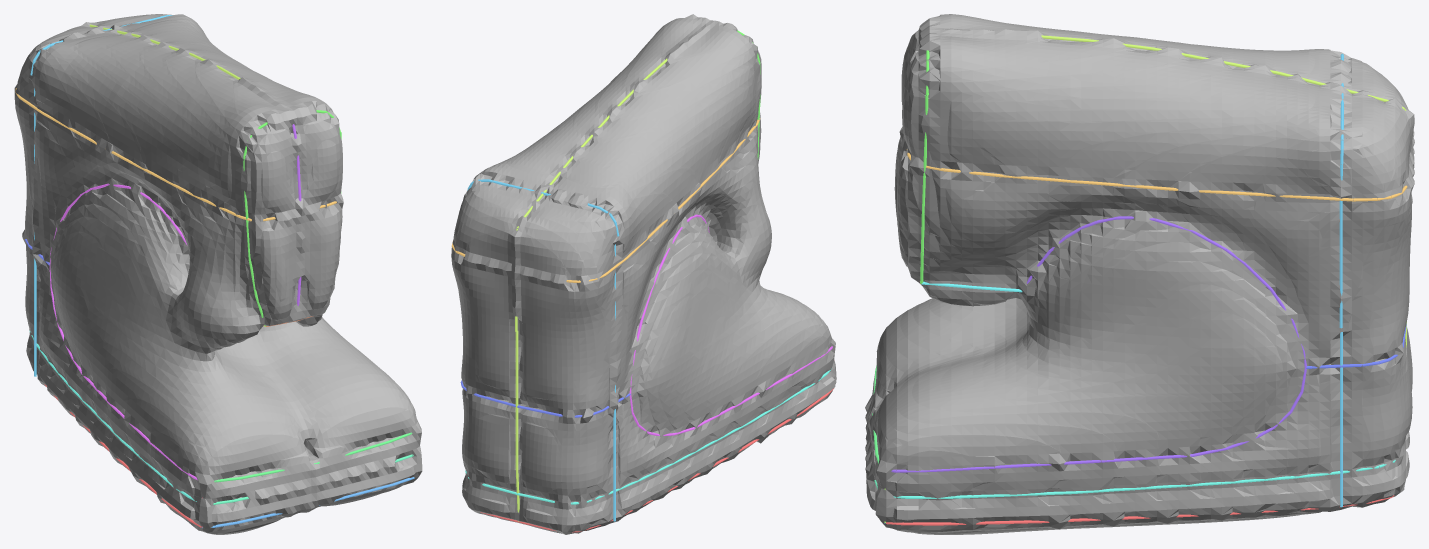
Rendered from t2f_sewing_machine.gltf.
The picture shows the model from 3 angles, left to right: view 1: azimuth 30°, elevation 25°; view 2: azimuth 150°, elevation 25°; view 3: azimuth 270°, elevation 25°; orthographic projection. The views are drawn at different scales.
Bounding box in the file's own units: 0.3954 × 0.6719 × 0.7079.
